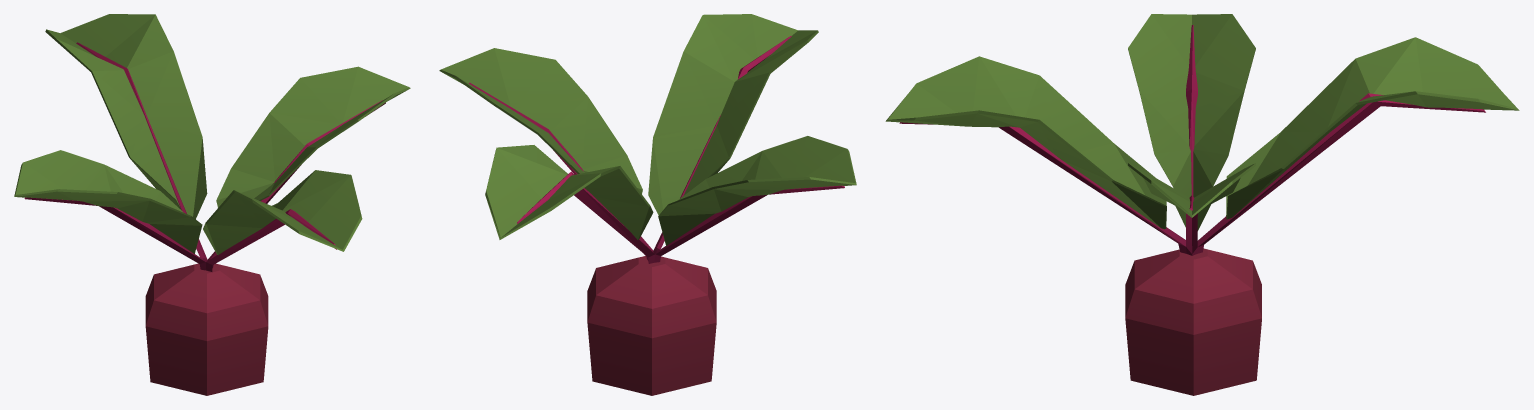
Rendered from Crop_Beetroot_STAGE_3_01.obj.
The picture shows the model from 3 angles, left to right: view 1: azimuth 30°, elevation 25°; view 2: azimuth 150°, elevation 25°; view 3: azimuth 270°, elevation 25°; orthographic projection. The views are drawn at different scales.
Parts seen in each view (by area): view 1: Crop_Beetroot_STAGE_3_01; view 2: Crop_Beetroot_STAGE_3_01; view 3: Crop_Beetroot_STAGE_3_01.
Part boxes in pixels (x1,y1,x2,y2): Crop_Beetroot_STAGE_3_01: (14, 14, 410, 395); Crop_Beetroot_STAGE_3_01: (439, 14, 856, 395); Crop_Beetroot_STAGE_3_01: (885, 14, 1519, 395).
Bounding box in the file's own units: 0.5661 × 0.3673 × 0.7035.
Materials: 1 (1 with a texture image).
